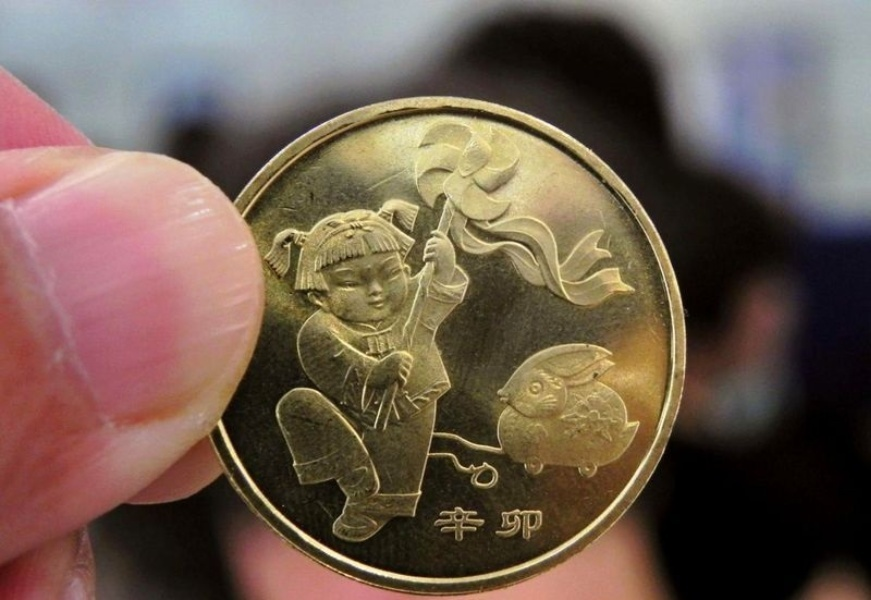text: (529, 506, 545, 542), (449, 506, 464, 542), (465, 506, 480, 542), (481, 506, 496, 542), (497, 506, 512, 542), (513, 506, 528, 542), (435, 506, 448, 542)
